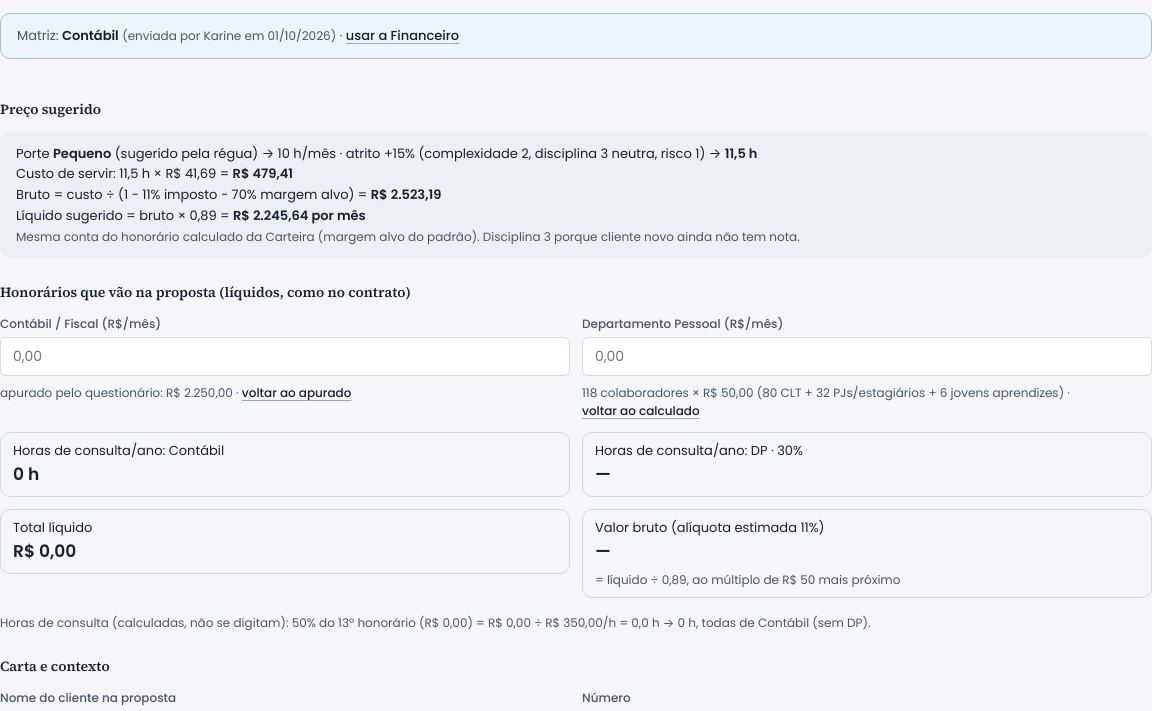
aba Proposta › horas de consulta saem dos honorários: 50% do 13º ÷ R$ 350, 70% Contábil e 30% DP
Type "8650" into the field labelled "Contábil / Fiscal (R$/mês)". click: (285, 356)
box: left=0, top=337, right=570, bottom=376
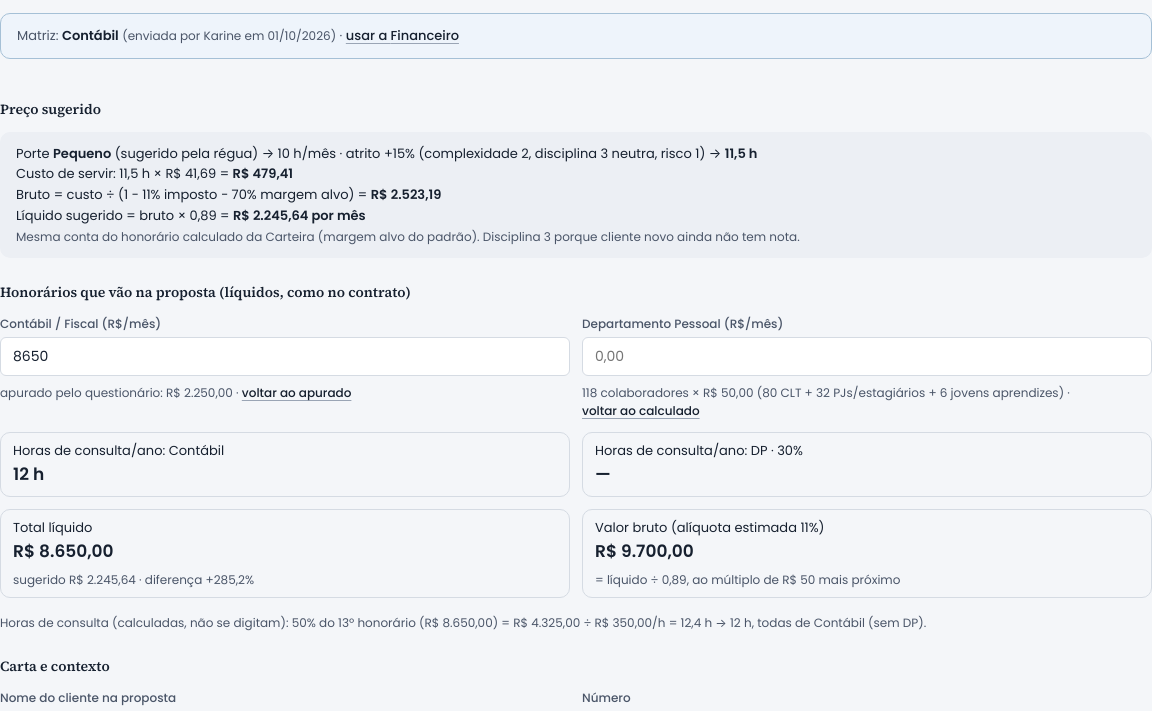
Type "5600" into the field labelled "Departamento Pessoal (R$/mês)". click: (867, 356)
box: left=582, top=337, right=1151, bottom=376
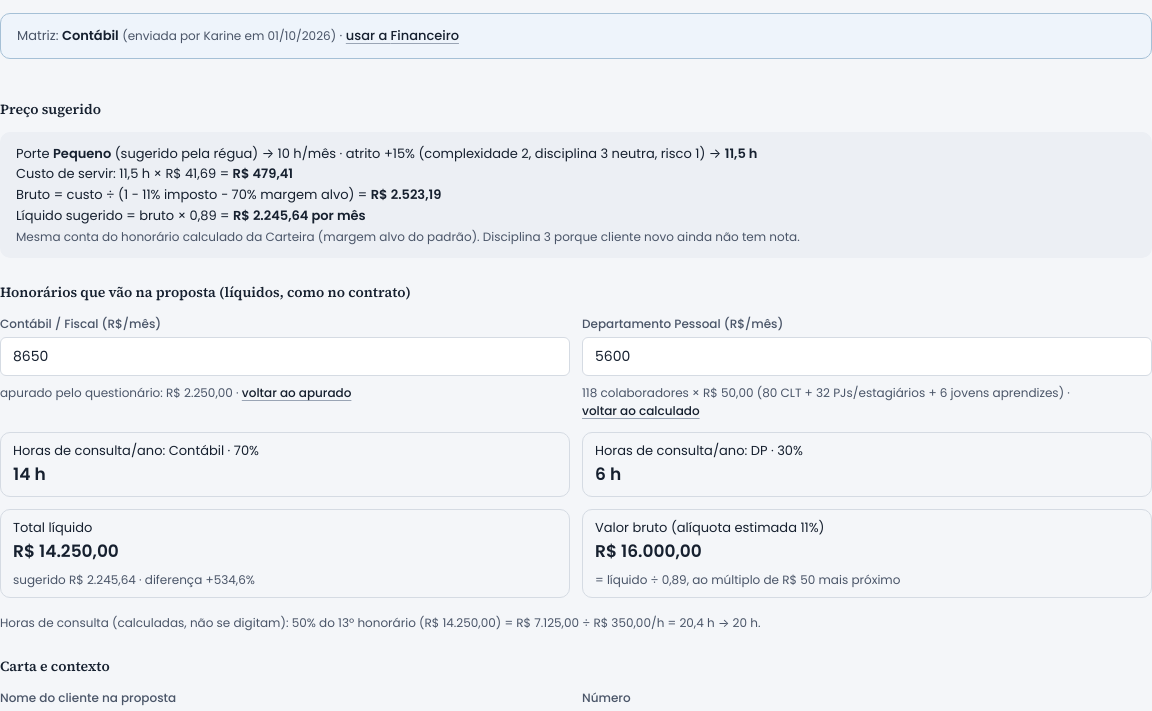
Now the text "Horas de consulta/ano: Contábil · 70% 14 h" is shown, box left=0, top=432, right=570, bottom=497
Now the text "Horas de consulta/ano: DP · 30% 6 h" is shown, box left=582, top=432, right=1151, bottom=497
Now the text "calculadas, não se digitam" shows "R$ 7.125,00 ÷ R$ 350,00/h = 20,4 h → 20 h", box left=0, top=614, right=760, bottom=631
